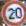20 km speed: (1, 1, 25, 26)
